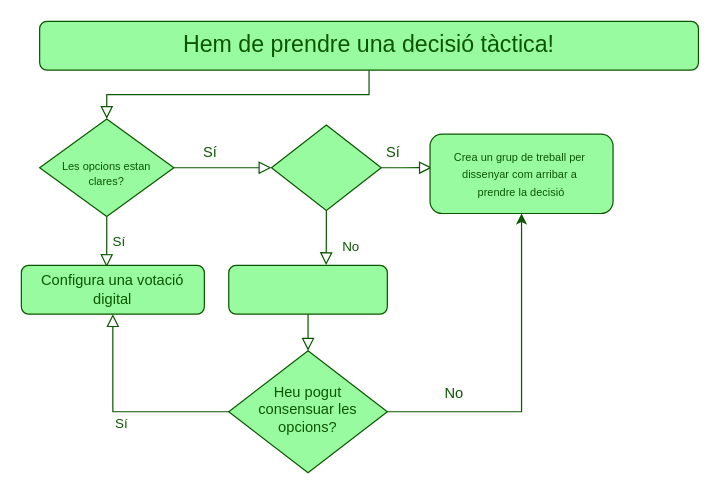
Image size: 720x494. Some labels were removed from this diagram. The box of each missing label's shape, as (x1, y1, x2, y2) in pixels:
Obre debats en línia: (228, 264, 387, 314)
És un tema polèmic?: (270, 124, 381, 210)
